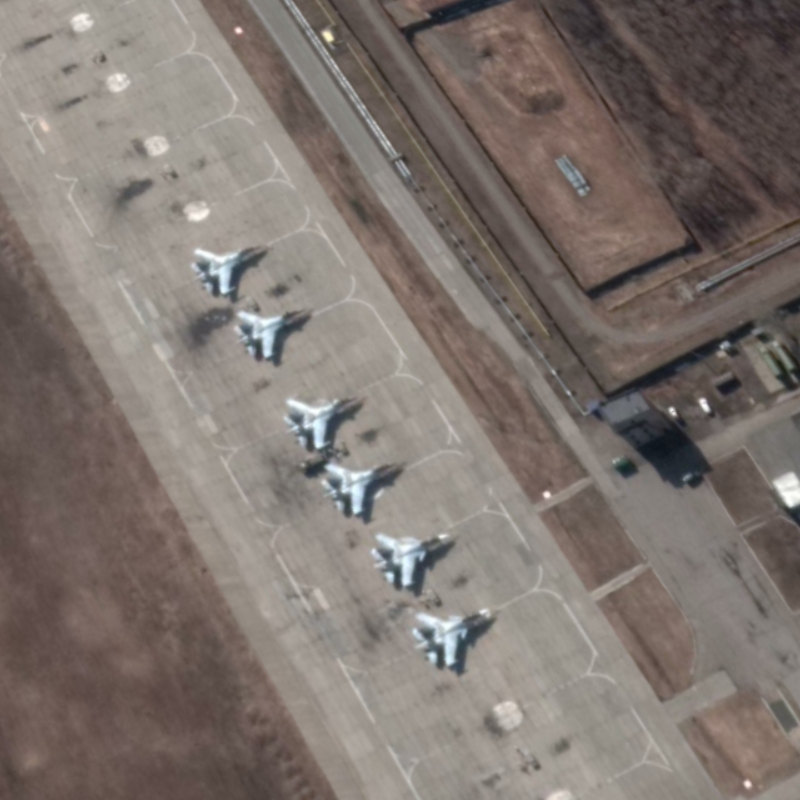A1: (318, 459, 404, 518), (280, 392, 363, 452), (187, 243, 266, 300), (231, 306, 309, 361)
A19: (411, 606, 492, 668), (370, 531, 452, 589)
